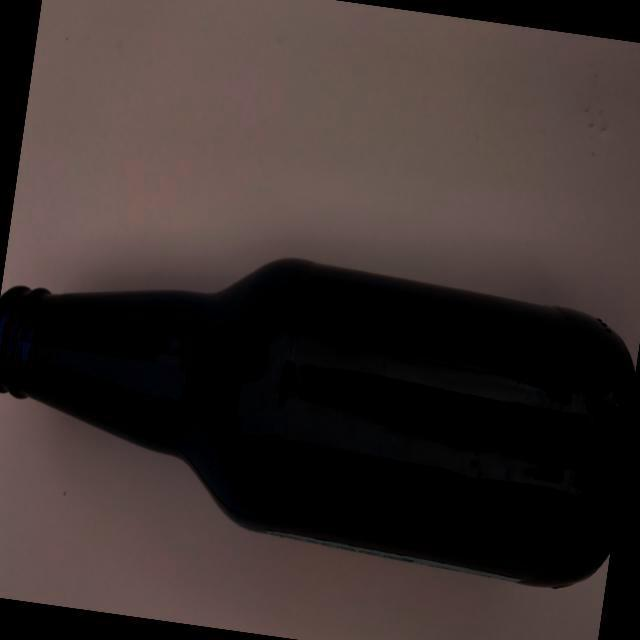glass: (0, 209, 640, 605)
